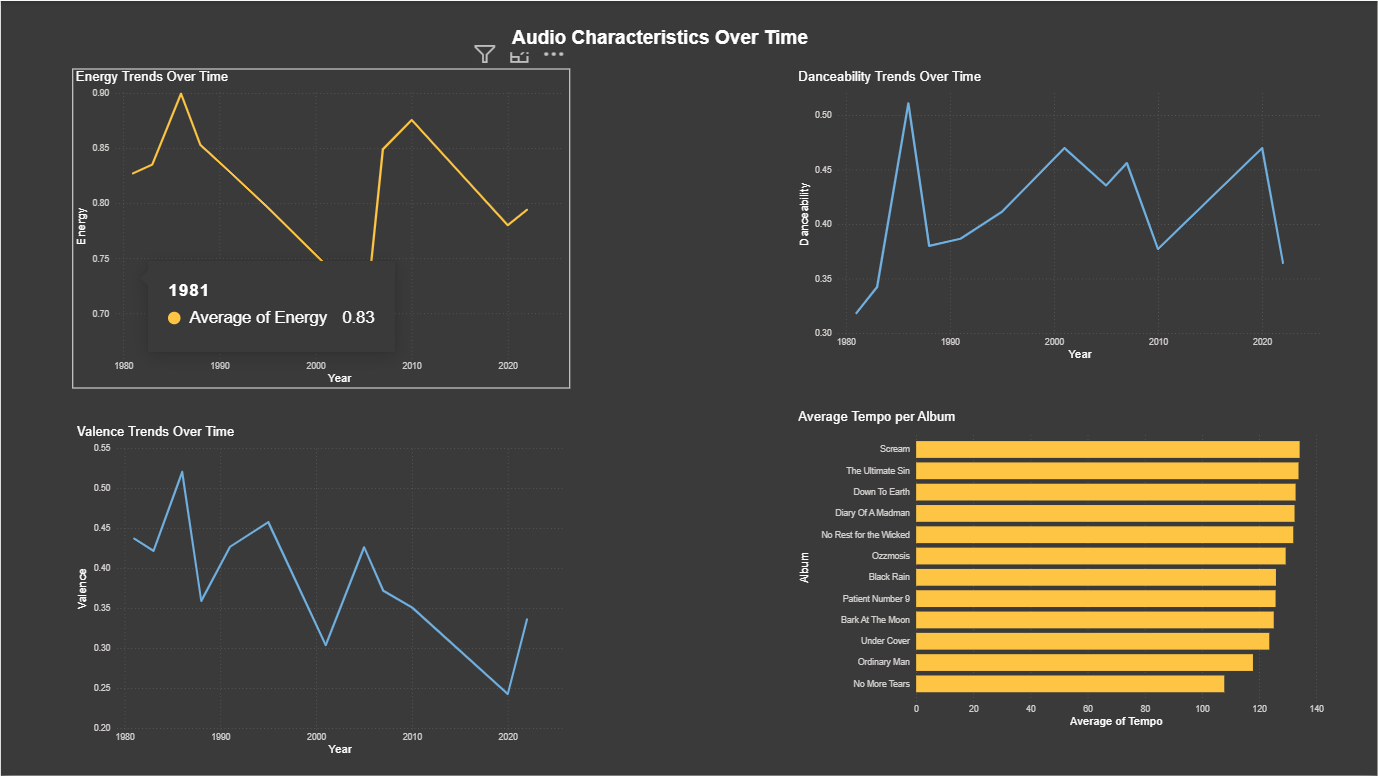

The page's visual inventory and layout, read from the dashboard file:
{"tool":"powerbi","page":{"name":"Audio Characteristics","canvas":[1920,1080],"ordinal":1},"visuals":[{"type":"lineChart","title":"Energy Trends Over Time","fields":{"Category":["OzzyOsbourneAlbumTracks 2 (2).Year"],"Y":["Avg(OzzyOsbourneAlbumTracks 2 (2).Energy)"]},"box":[100,94,694,446],"z":0},{"type":"lineChart","title":"Danceability Trends Over Time","fields":{"Category":["OzzyOsbourneAlbumTracks 2 (2).Year"],"Y":["Avg(OzzyOsbourneAlbumTracks 2 (2).Danceability)"]},"box":[1108,94,744,412],"z":1000},{"type":"lineChart","title":"Valence Trends Over Time","fields":{"Category":["OzzyOsbourneAlbumTracks 2 (2).Year"],"Y":["Avg(OzzyOsbourneAlbumTracks 2 (2).Valence)"]},"box":[102,590,692,468],"z":2000},{"type":"barChart","title":"Average Tempo per Album","fields":{"Category":["OzzyOsbourneAlbumTracks 2 (2).Album"],"Y":["Avg(OzzyOsbourneAlbumTracks 2 (2).Tempo)"]},"box":[1108,568,744,450],"z":3000},{"type":"textbox","box":[704,32,430,40],"z":4000}]}

Visuals, with their boxes in screenshot pixels (x1, y1, x2, y2), scaled from the page's 1920x1080 canvas onto the 1378x776 screenshot:
"Energy Trends Over Time" lineChart: Rect(72, 68, 570, 388)
"Danceability Trends Over Time" lineChart: Rect(795, 68, 1329, 364)
"Valence Trends Over Time" lineChart: Rect(73, 424, 570, 760)
"Average Tempo per Album" barChart: Rect(795, 408, 1329, 731)
textbox: Rect(505, 23, 814, 52)
